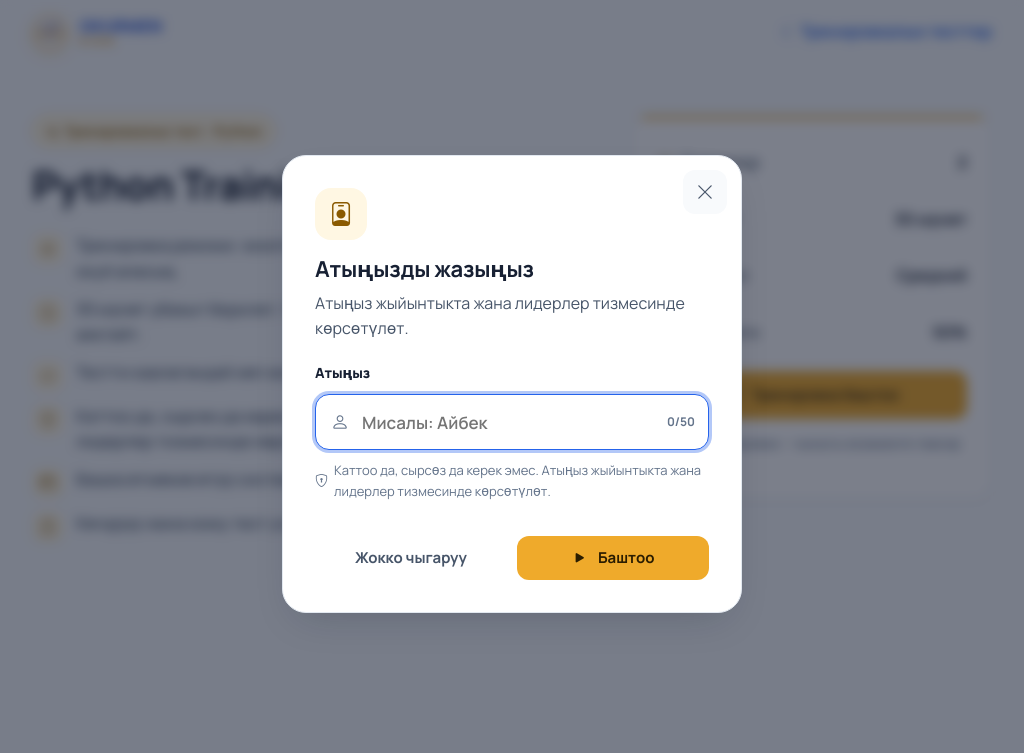
Test case: training flow (through the API layer) › starts with a name, saves answers on the backend, shows its feedback, submits and shows its result
In the field labelled "Атыңыз": (512, 422) [315, 394, 709, 450], type "Islam"
Click the button "Баштоо": (613, 558) [517, 536, 709, 580]
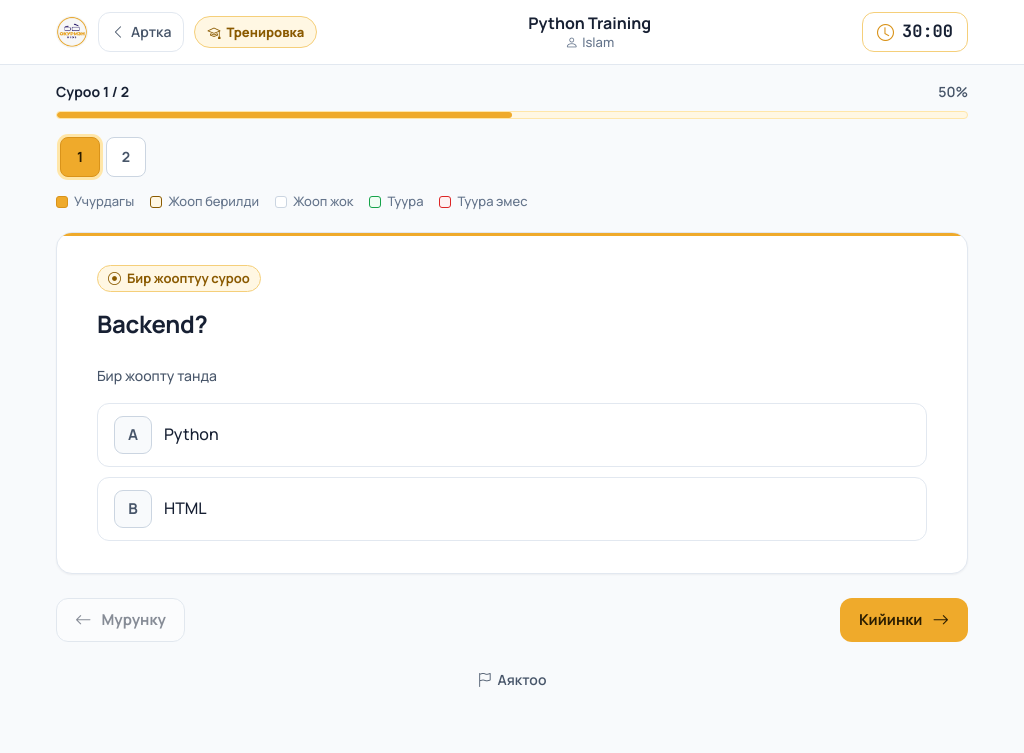
Expected: the text "Суроо 1 / 2" is shown, [56, 81, 129, 103]
Click the radio button labelled "B HTML": (133, 509) [97, 477, 927, 541]
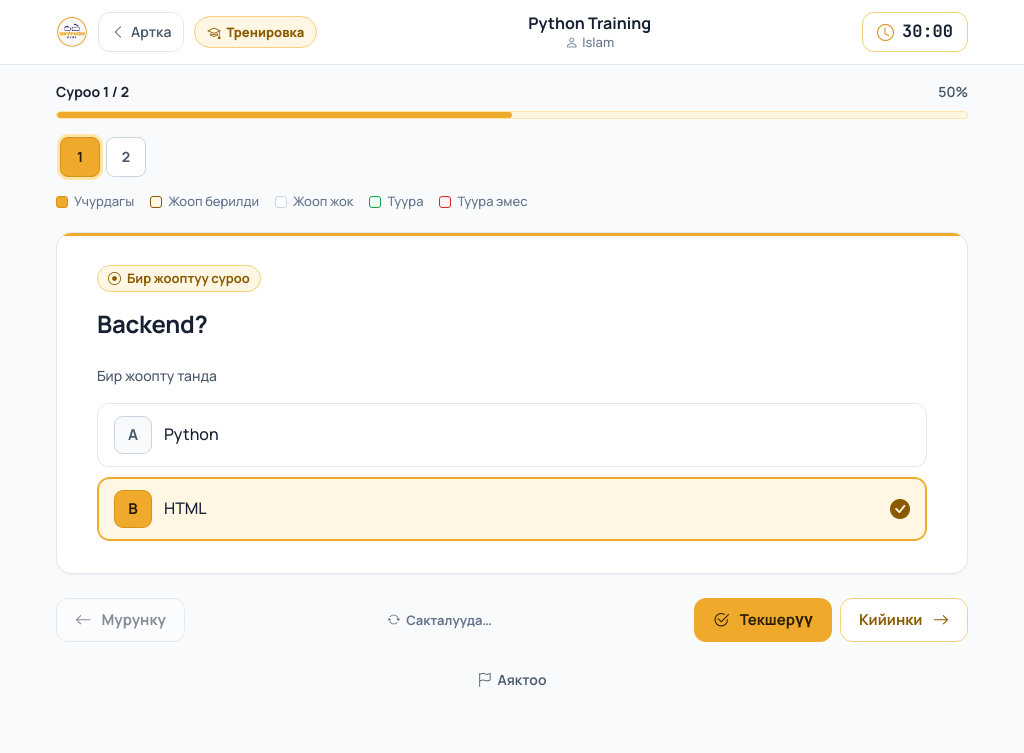
Click the button "Текшерүү": (763, 620) [694, 598, 832, 642]
(page scrolled)
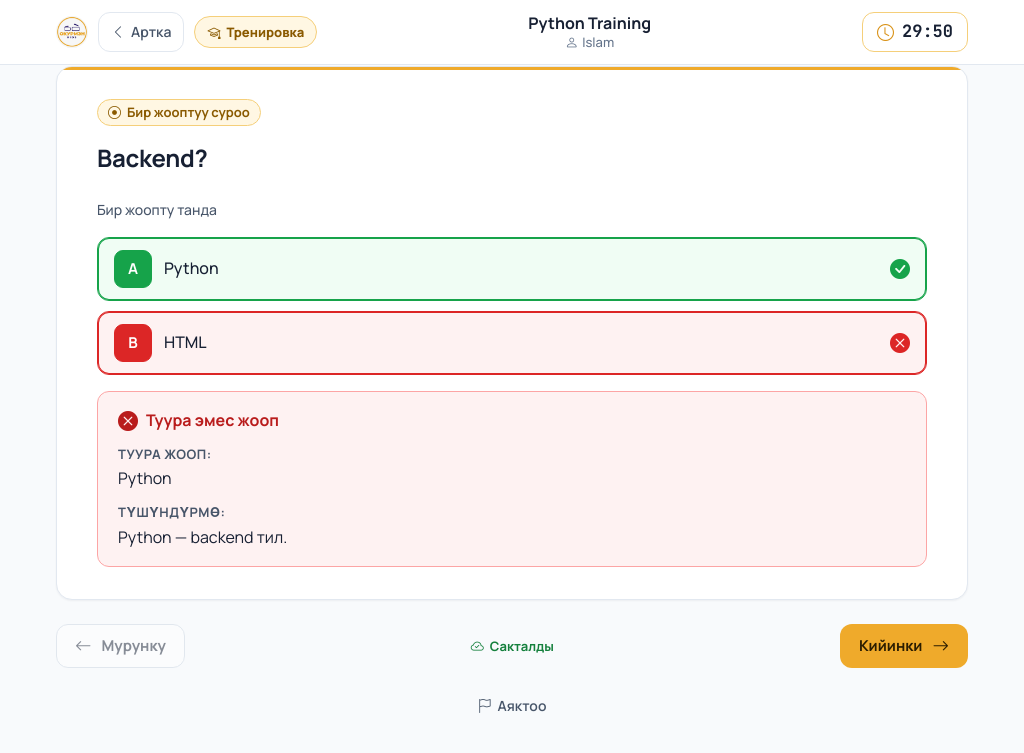
Expected: the text "Туура эмес жооп" is shown, [118, 409, 279, 431]
Expected: the text "Python — backend тил." is shown, [118, 526, 287, 548]
Expected: the radio button labelled "B HTML" is disabled, [97, 311, 927, 375]
Click the button "Кийинки": (904, 646) [840, 624, 968, 668]
(page scrolled)
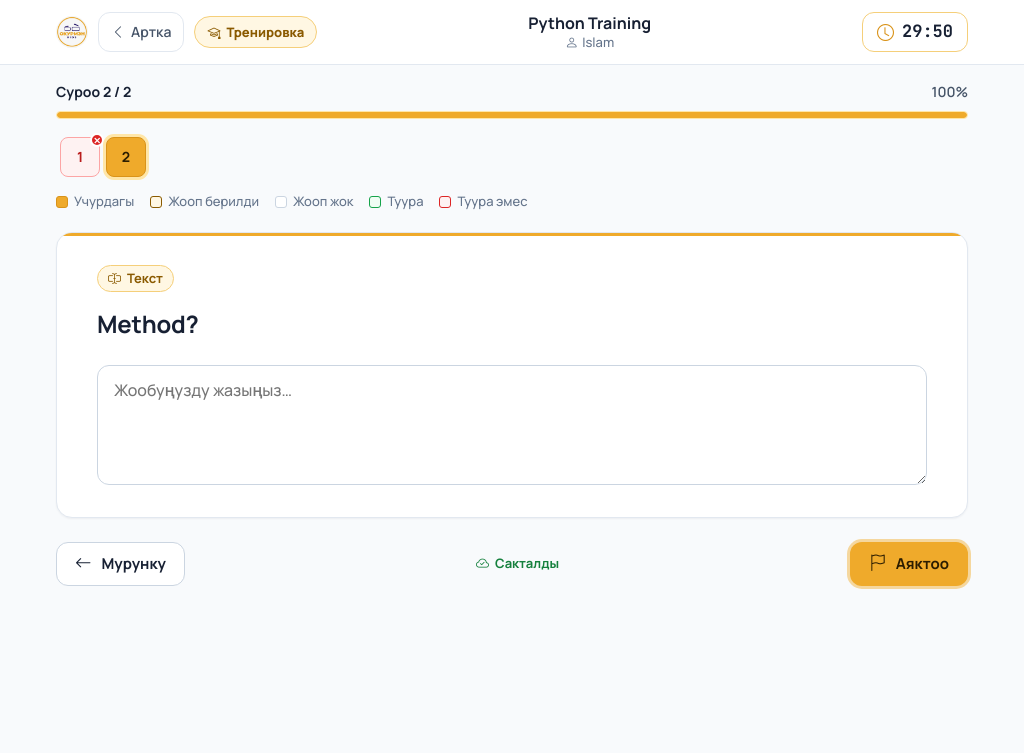
Click the button "Аяктоо": (909, 564) [850, 542, 968, 586]
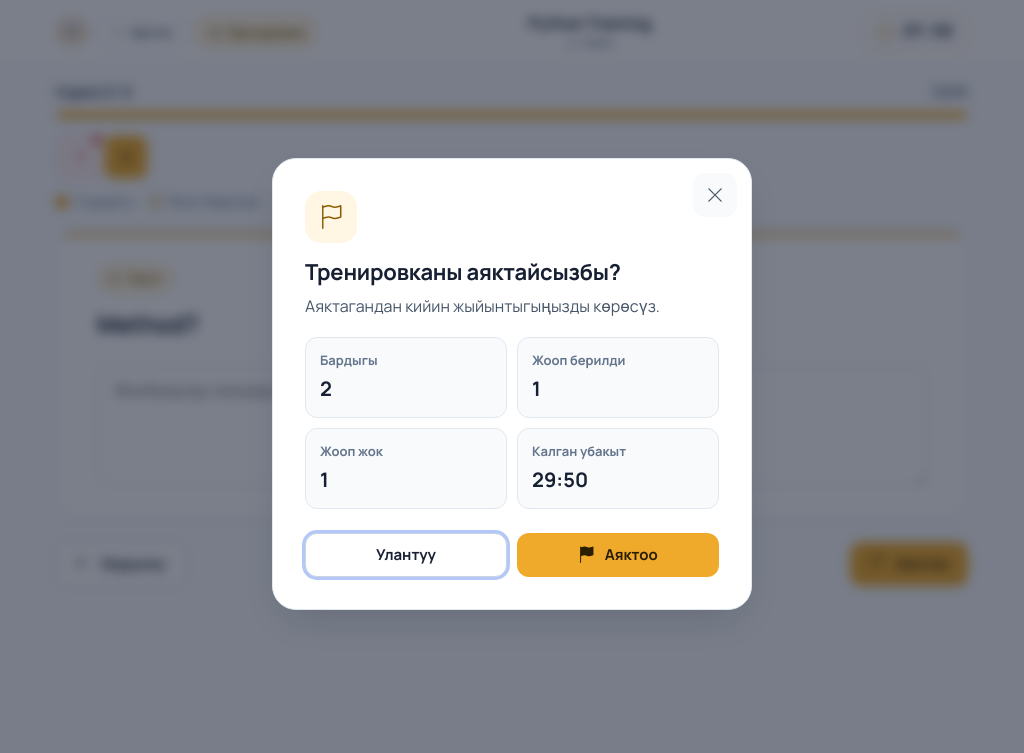
Click the button "Аяктоо": (618, 555) [517, 533, 719, 577]
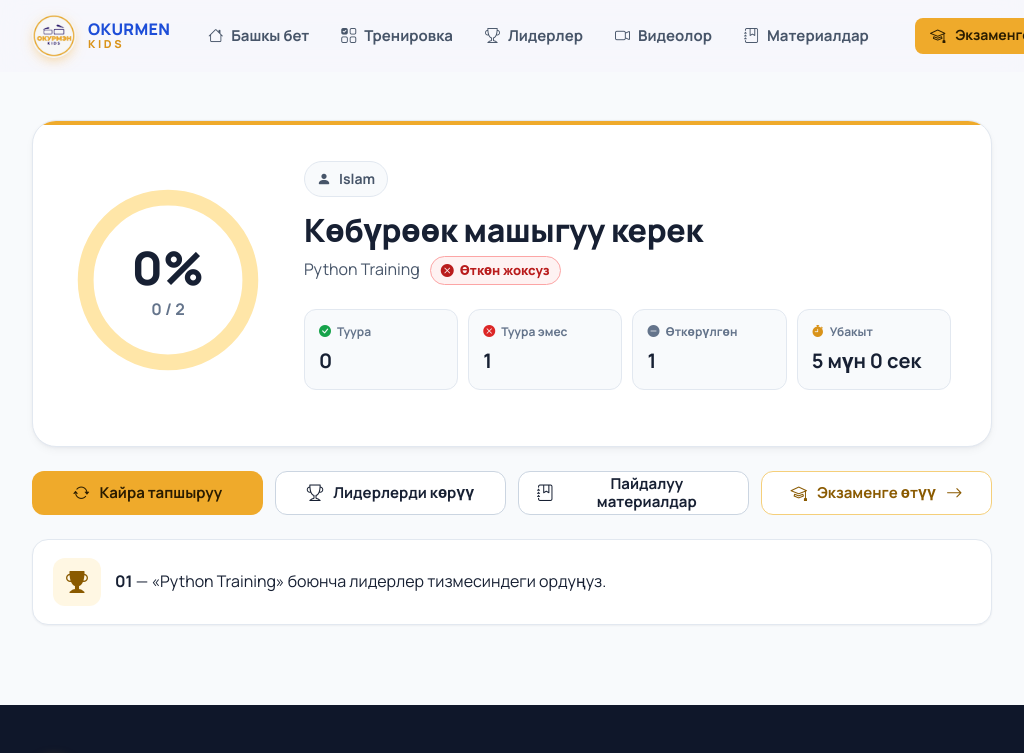
Expected: the heading "Көбүрөөк машыгуу керек" is shown, [304, 208, 703, 252]
Expected: the text "0 / 2" is shown, [151, 298, 185, 320]
